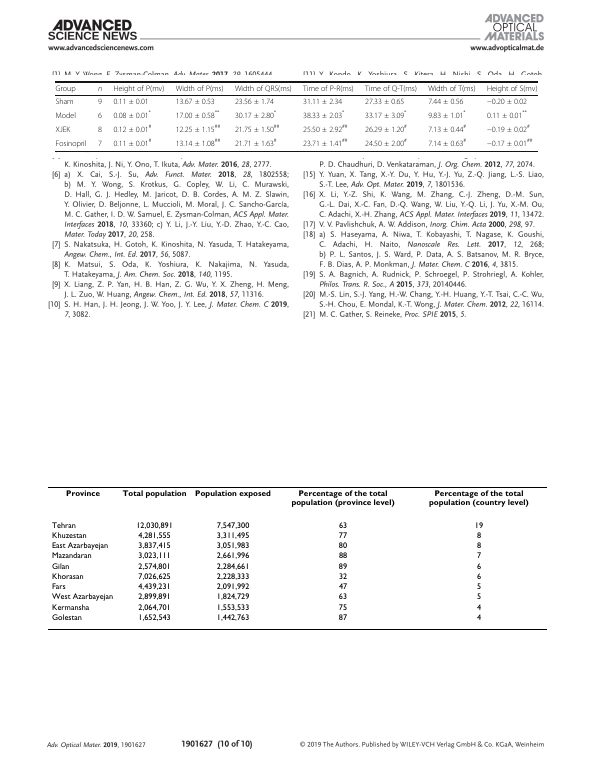borderless: (47, 485, 547, 629), (55, 80, 538, 151)
cell: (290, 490, 395, 508), (428, 490, 529, 508), (194, 490, 271, 499), (121, 490, 187, 499), (50, 593, 114, 602), (50, 542, 109, 551), (234, 84, 293, 93), (486, 137, 533, 148), (175, 123, 221, 134), (234, 123, 280, 134), (302, 123, 348, 134), (175, 137, 221, 148), (302, 137, 348, 148), (175, 109, 220, 120), (486, 123, 531, 134), (364, 84, 418, 93), (364, 123, 408, 134), (234, 137, 278, 148), (364, 137, 408, 148), (112, 84, 165, 93), (302, 84, 355, 93), (234, 109, 277, 120), (302, 109, 345, 120), (364, 109, 407, 120), (486, 84, 538, 93), (486, 109, 528, 120), (427, 84, 477, 93), (175, 84, 224, 93), (112, 109, 152, 120), (427, 109, 467, 120), (112, 123, 152, 134), (427, 123, 467, 134), (112, 137, 152, 148), (427, 137, 467, 148), (50, 603, 90, 613), (135, 521, 173, 531), (50, 552, 92, 561), (486, 97, 528, 106), (50, 531, 87, 541), (175, 97, 216, 106), (234, 97, 275, 106), (302, 97, 343, 106), (364, 97, 405, 106), (215, 521, 250, 531), (215, 531, 250, 541), (215, 562, 250, 572), (215, 572, 250, 582), (215, 603, 250, 613), (215, 613, 250, 623), (112, 97, 150, 106), (137, 531, 171, 541), (137, 562, 171, 572), (50, 572, 84, 582), (137, 572, 171, 582), (137, 603, 171, 613), (137, 613, 171, 623), (427, 97, 464, 106), (50, 613, 82, 623), (65, 490, 100, 499), (215, 542, 250, 551), (215, 552, 250, 561), (215, 583, 250, 592), (215, 593, 250, 602), (137, 542, 171, 551), (137, 552, 171, 561), (137, 583, 171, 592), (137, 593, 171, 602), (55, 139, 87, 148), (50, 521, 76, 531), (50, 562, 70, 572), (55, 111, 77, 120), (55, 84, 76, 93), (55, 97, 74, 106), (50, 583, 66, 592), (55, 125, 71, 134), (337, 521, 348, 531), (473, 521, 484, 531), (337, 531, 348, 541), (337, 562, 348, 572), (337, 572, 348, 582), (337, 603, 348, 613), (337, 613, 348, 623), (337, 542, 348, 551), (337, 552, 348, 561), (337, 583, 348, 592), (337, 593, 348, 602), (475, 572, 482, 582), (475, 613, 482, 623), (475, 542, 482, 551), (475, 552, 482, 561), (475, 583, 482, 592), (475, 593, 482, 602), (475, 531, 481, 541), (475, 562, 481, 572), (475, 603, 481, 613), (97, 97, 103, 106), (97, 111, 103, 120), (97, 125, 103, 134), (97, 139, 103, 148), (97, 86, 103, 92)
